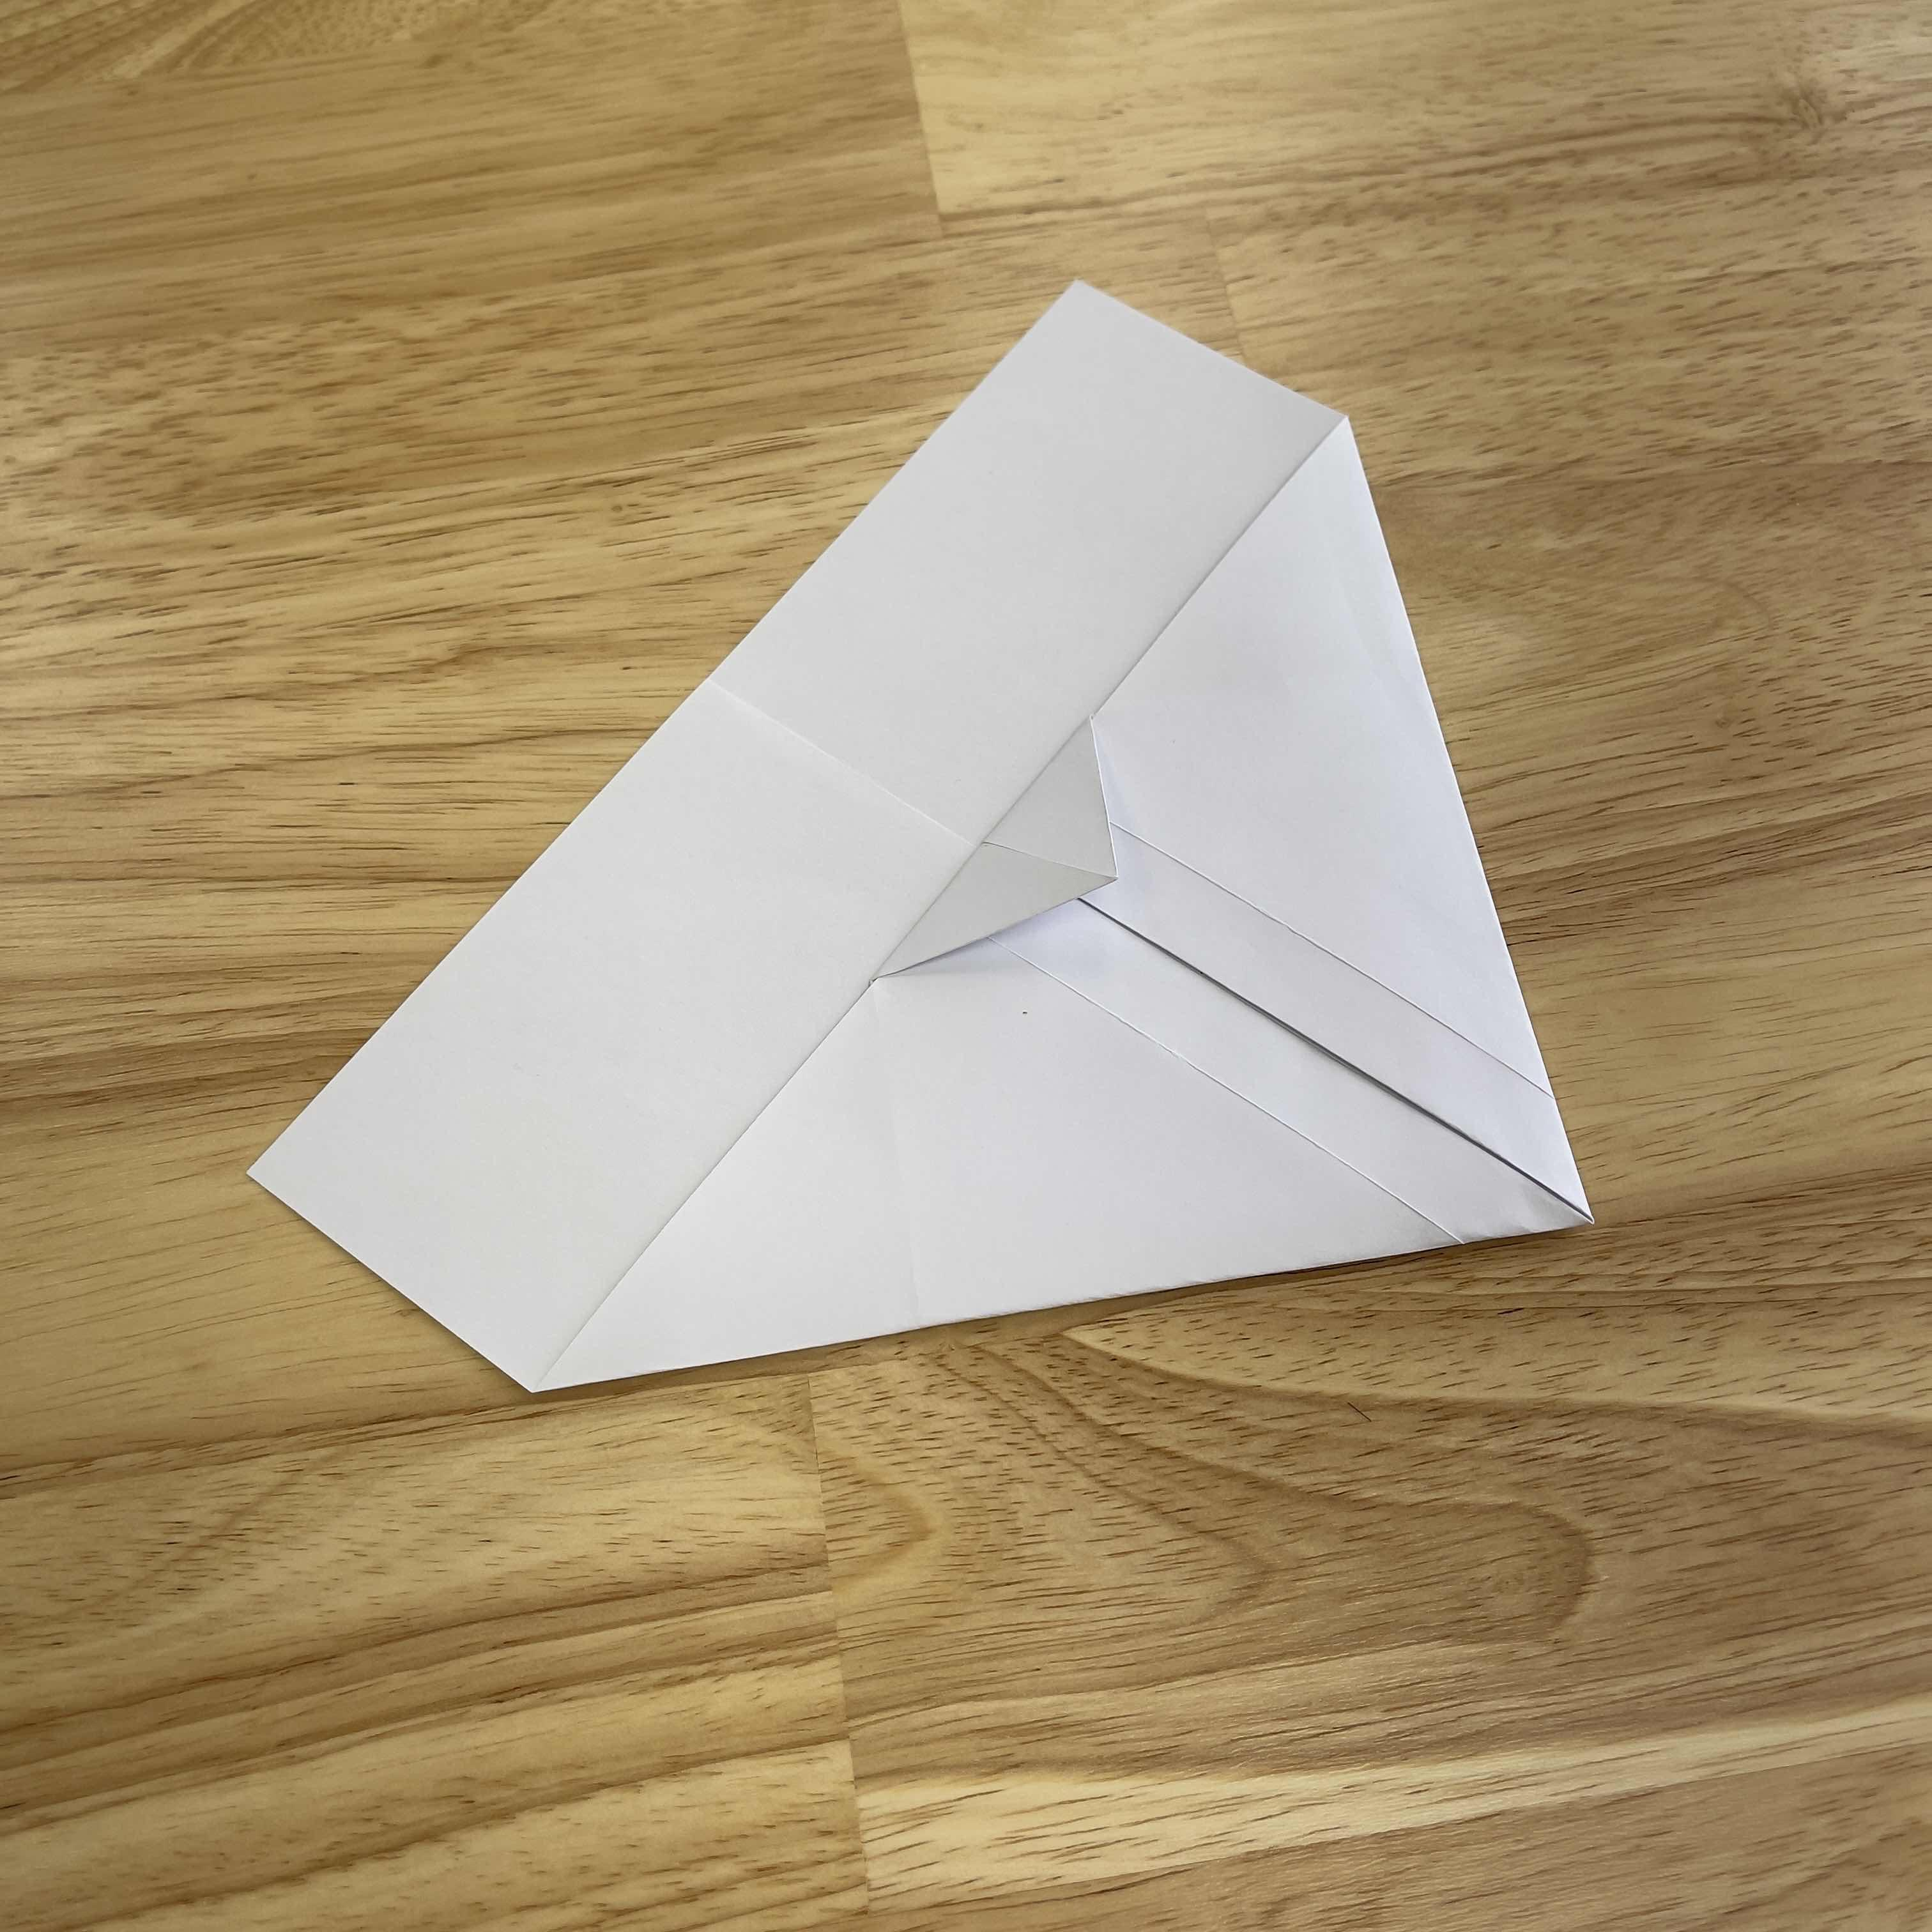shape_2: (186, 195, 1836, 1628)
